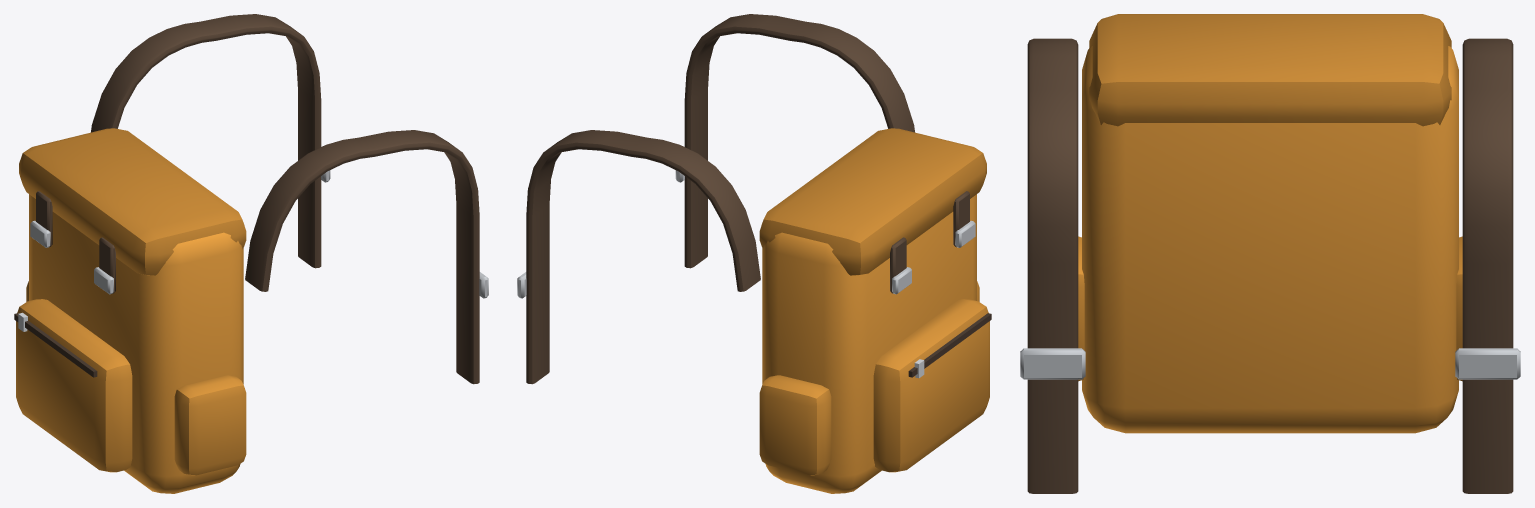
Rendered from detail_backpack.glb.
3 renders of one model, left to right at view 1: azimuth 30°, elevation 25°; view 2: azimuth 150°, elevation 25°; view 3: azimuth 270°, elevation 25°, orthographic. The views are drawn at different scales.
Visible parts, largest first — view 1: detail_backpack; view 2: detail_backpack; view 3: detail_backpack.
Boxes of the visible parts, left/top/right/bottom form: detail_backpack: left=14, top=14, right=488, bottom=493; detail_backpack: left=517, top=14, right=991, bottom=493; detail_backpack: left=1020, top=14, right=1520, bottom=493.
Size of the model in its own units: 0.757 by 0.6842 by 0.69.
